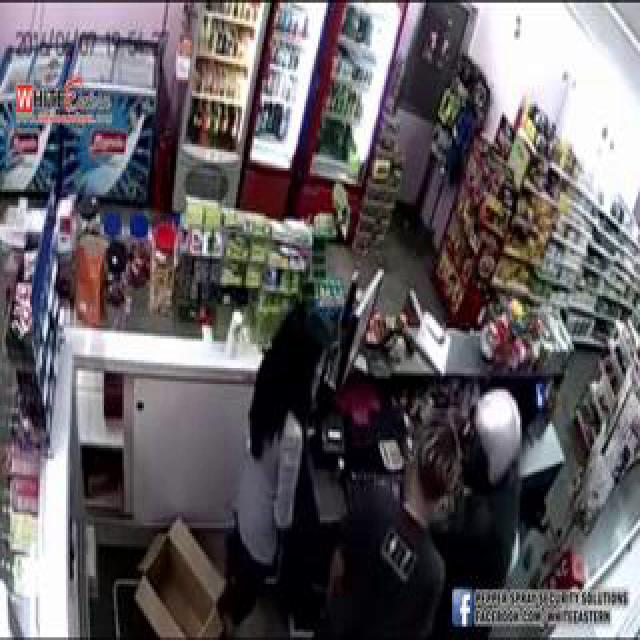robbery: (161, 144, 547, 624), (275, 274, 556, 590)
